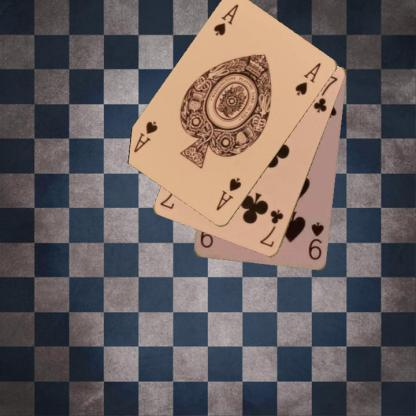7c: (257, 207, 285, 249)
9s: (306, 219, 326, 262)
As: (214, 174, 243, 212), (211, 2, 240, 38)
